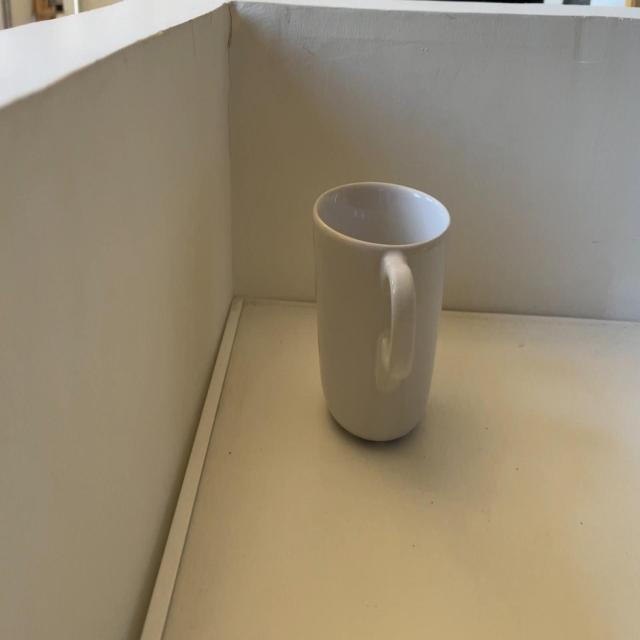cup: (312, 177, 453, 448)
